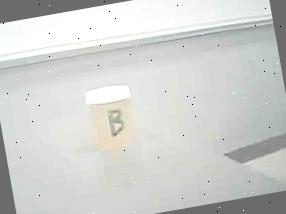Bottle B: (79, 78, 151, 161)
